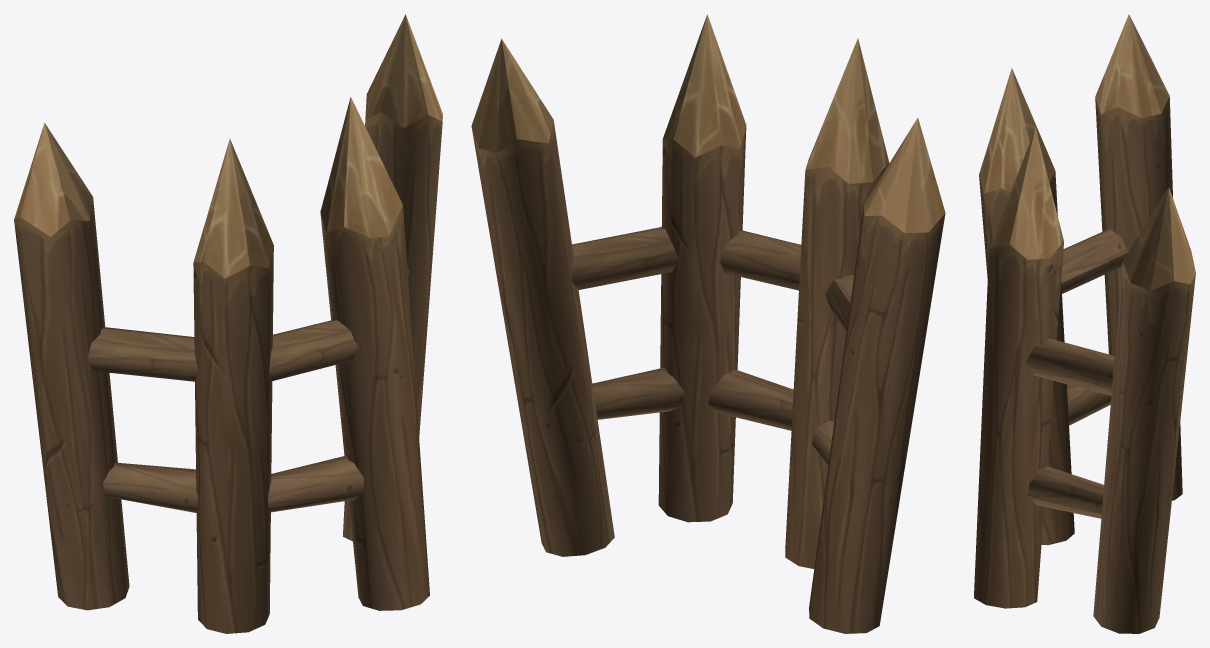
File: Camp1_Barricade1.fbx
3 renders of one model, left to right at view 1: azimuth 30°, elevation 25°; view 2: azimuth 150°, elevation 25°; view 3: azimuth 270°, elevation 25°, orthographic. The views are drawn at different scales.
Parts seen in each view (by area): view 1: polySurface1446; view 2: polySurface1446; view 3: polySurface1446.
Boxes of the visible parts, box(x1,y1,x2,y2) form: polySurface1446: box(14, 14, 442, 633); polySurface1446: box(471, 14, 945, 633); polySurface1446: box(974, 14, 1195, 633).
Bounding box in the file's own units: 124 × 135 × 59.33.
1 material, 1 textured.
